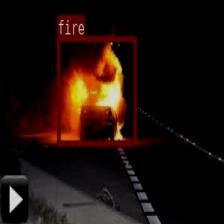fire: (56, 35, 136, 144)
